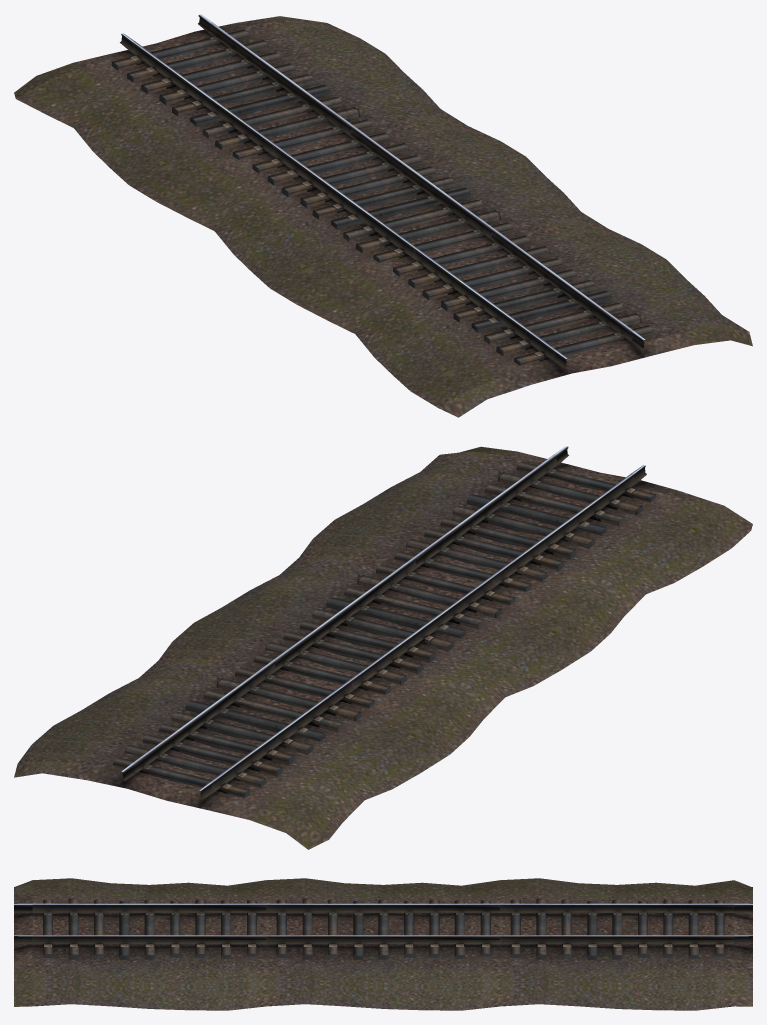
File: 1track_15_der_TSM.gltf
3 renders of one model, top to bottom at view 1: azimuth 30°, elevation 25°; view 2: azimuth 150°, elevation 25°; view 3: azimuth 270°, elevation 25°, orthographic. The views are drawn at different scales.
Bounding box in the file's own units: 6.7 × 0.6438 × 15.8.
1 material, 1 textured.
